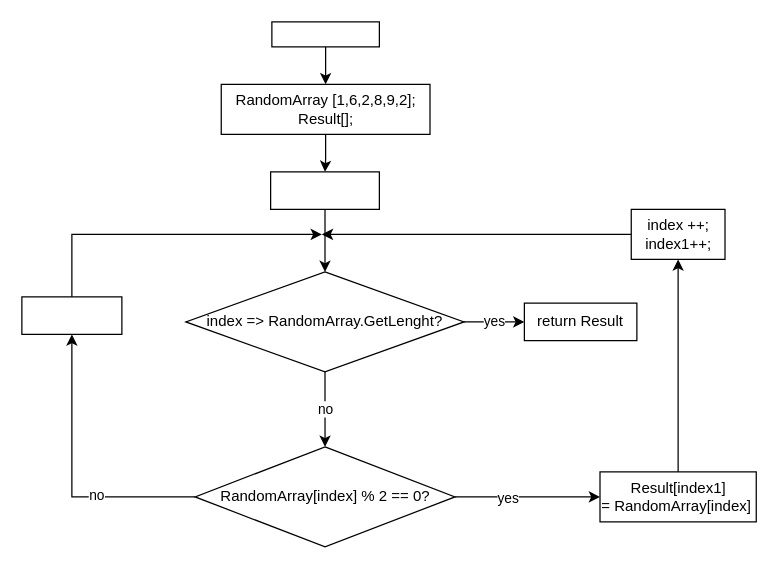
Some shapes in this 779 by 569 pixel diagram are drawn without their labels. The box of each missing label's shape, as (x1, y1, x2, y2) in pixels:
index ++;: (21, 296, 122, 334)
index = 0; index1 = 0;: (269, 171, 379, 209)
start: (271, 21, 379, 47)
